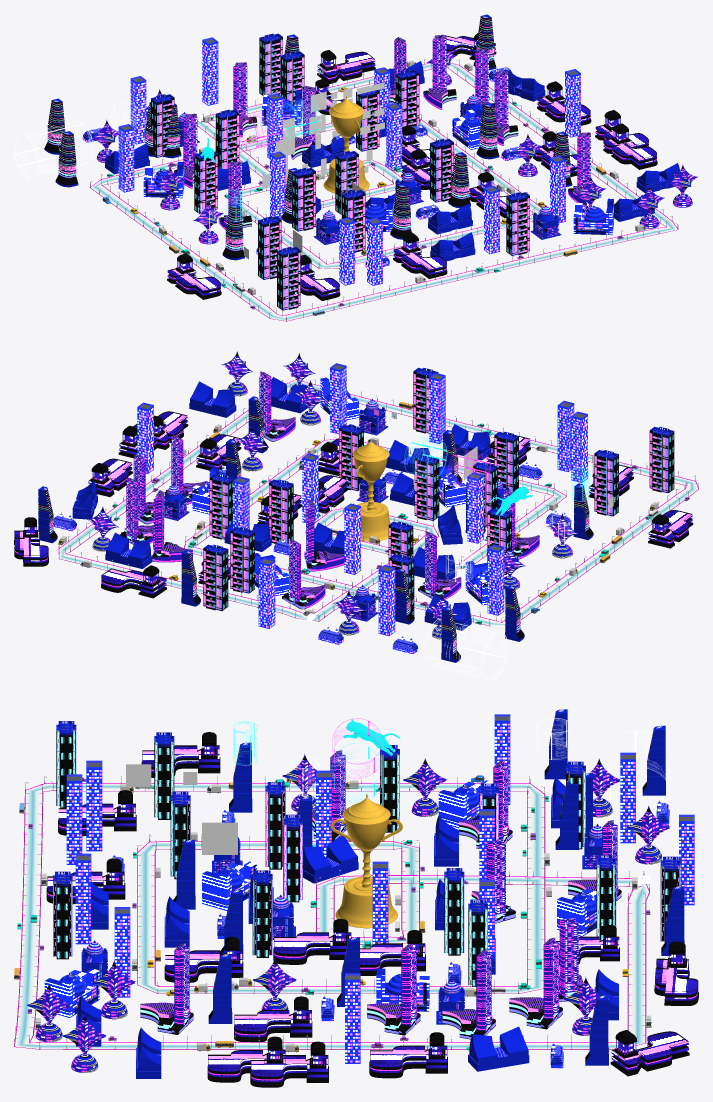
3 views of the same model, one above another, from view 1: azimuth 30°, elevation 25°; view 2: azimuth 150°, elevation 25°; view 3: azimuth 270°, elevation 25° (orthographic). The views are drawn at different scales.
Parts seen in each view (by area): view 1: rode, t9, building_011.002_Baked.013, building_011.002_Baked.010, building_011.002_Baked.012, building_011.002_Baked.009, building_011.002_Baked.014, City1 Block 1.009_Baked.003, City1 Block 1.009_Baked.002, City1 Block 1.009_Baked.011, building_011.002_Baked.005, City1 Block 1.009_Baked.005 (+69 smaller); view 2: rode, t9, building_011.002_Baked.013, building_011.002_Baked.014, building_011.002_Baked.004, building_011.002_Baked.006, Cylinder.006, building_011.002_Baked.005, building_011.002_Baked.002, City1 Block 1.009_Baked.003, building_011.002_Baked.001, building_011.002_Baked.008 (+72 smaller); view 3: rode, t9, City1 Block 1.009_Baked.007, City1 Block 1.009_Baked.009, City1 Block 1.009_Baked.010, City1 Block 1.009_Baked.004, B5.003_Baked.005, B5.003_Baked.004, B5.003_Baked.009, City1 Block 1.009_Baked.013, B5.003_Baked.006, City1 Block 1.009_Baked.003 (+79 smaller).
Boxes of the visible parts, bbox=[...] form: rode: bbox=[90, 59, 678, 321]; t9: bbox=[323, 96, 369, 193]; building_011.002_Baked.013: bbox=[277, 246, 300, 310]; building_011.002_Baked.010: bbox=[506, 192, 529, 255]; building_011.002_Baked.012: bbox=[292, 168, 315, 231]; building_011.002_Baked.009: bbox=[430, 138, 453, 202]; building_011.002_Baked.014: bbox=[259, 33, 282, 95]; City1 Block 1.009_Baked.003: bbox=[317, 50, 375, 83]; City1 Block 1.009_Baked.002: bbox=[167, 253, 221, 299]; City1 Block 1.009_Baked.011: bbox=[393, 232, 447, 278]; building_011.002_Baked.005: bbox=[258, 216, 281, 279]; City1 Block 1.009_Baked.005: bbox=[603, 123, 657, 169]; rode: bbox=[58, 379, 698, 626]; t9: bbox=[352, 439, 390, 541]; building_011.002_Baked.013: bbox=[649, 426, 674, 493]; building_011.002_Baked.014: bbox=[203, 544, 228, 610]; building_011.002_Baked.004: bbox=[414, 454, 439, 520]; building_011.002_Baked.006: bbox=[230, 527, 254, 593]; Cylinder.006: bbox=[424, 618, 508, 680]; building_011.002_Baked.005: bbox=[594, 450, 618, 516]; building_011.002_Baked.002: bbox=[269, 479, 293, 543]; City1 Block 1.009_Baked.003: bbox=[101, 565, 166, 598]; building_011.002_Baked.001: bbox=[209, 474, 234, 539]; building_011.002_Baked.008: bbox=[494, 431, 518, 492]; rode: bbox=[14, 776, 649, 1049]; t9: bbox=[330, 794, 402, 928]; City1 Block 1.009_Baked.007: bbox=[610, 1030, 689, 1076]; City1 Block 1.009_Baked.009: bbox=[369, 1032, 447, 1078]; City1 Block 1.009_Baked.010: bbox=[234, 996, 312, 1042]; City1 Block 1.009_Baked.004: bbox=[250, 1041, 328, 1087]; B5.003_Baked.005: bbox=[509, 937, 562, 1029]; B5.003_Baked.004: bbox=[367, 943, 420, 1035]; B5.003_Baked.009: bbox=[140, 943, 193, 1034]; City1 Block 1.009_Baked.013: bbox=[273, 918, 351, 964]; B5.003_Baked.006: bbox=[442, 949, 495, 1039]; City1 Block 1.009_Baked.003: bbox=[654, 941, 698, 1005].
Size of the model in its own units: 171 by 44.26 by 151.
80 materials, 41 textured.
